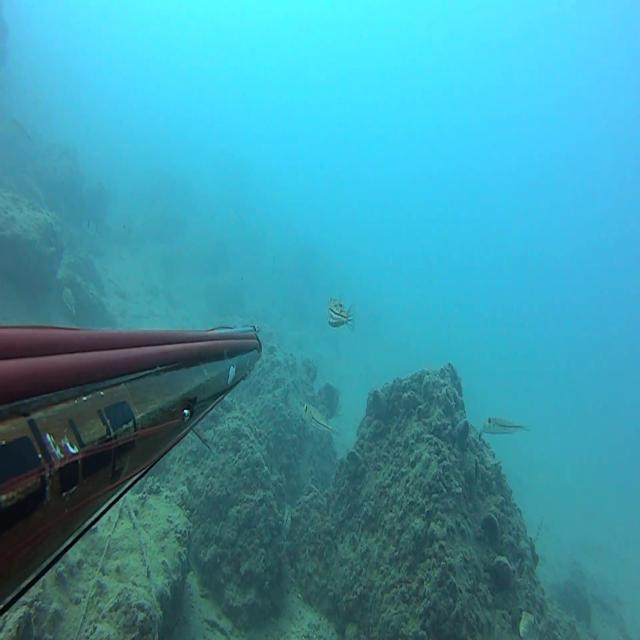Balon Baligi: (301, 403, 338, 433), (327, 297, 354, 332), (482, 416, 532, 434), (519, 610, 547, 640), (62, 287, 76, 315)
